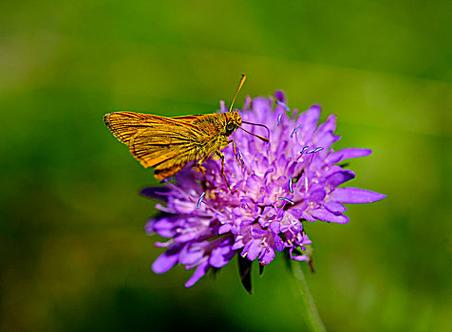Hesperiidae: (102, 71, 280, 183)
